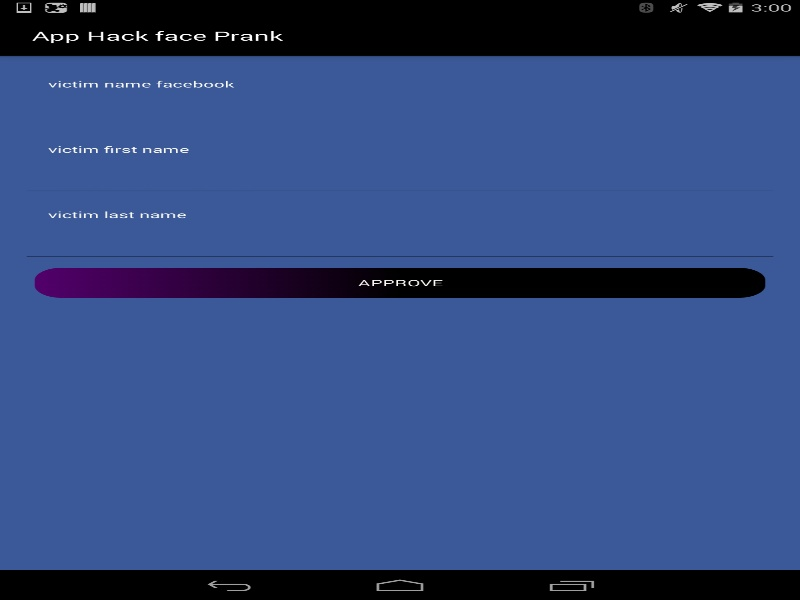Button: (34, 267, 765, 297)
Input: (21, 167, 778, 196), (21, 102, 778, 130), (21, 233, 778, 261)
